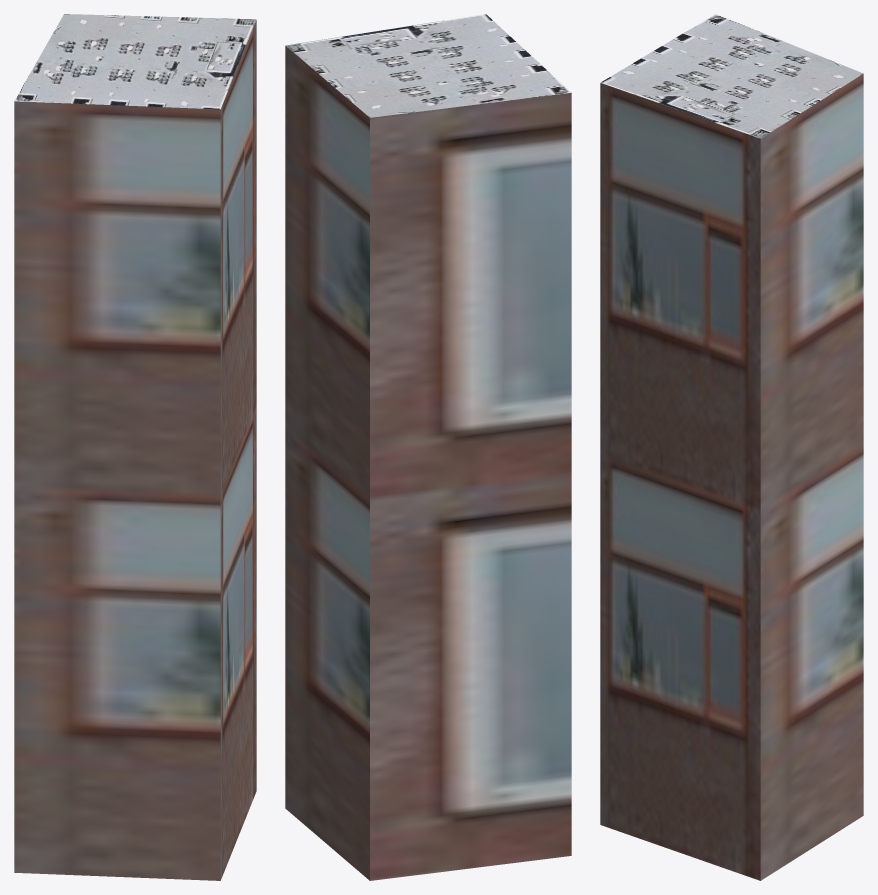
The model's file is ResTex__473.fbx.
3 renders of one model, left to right at view 1: azimuth 30°, elevation 25°; view 2: azimuth 150°, elevation 25°; view 3: azimuth 270°, elevation 25°, orthographic. The views are drawn at different scales.
Parts seen in each view (by area): view 1: CityEngineMaterial_19_m, CityEngineMaterial_15_m; view 2: CityEngineMaterial_19_m, CityEngineMaterial_15_m; view 3: CityEngineMaterial_19_m, CityEngineMaterial_15_m.
Part boxes in pixels (x1,y1,x2,y2): CityEngineMaterial_19_m: [14, 20, 256, 880]; CityEngineMaterial_15_m: [14, 14, 256, 109]; CityEngineMaterial_19_m: [285, 46, 571, 880]; CityEngineMaterial_15_m: [285, 14, 570, 117]; CityEngineMaterial_19_m: [600, 74, 863, 880]; CityEngineMaterial_15_m: [600, 14, 863, 138].
Size of the model in its own units: 2.16 by 6 by 1.93.
Materials: 2 (2 with a texture image).
